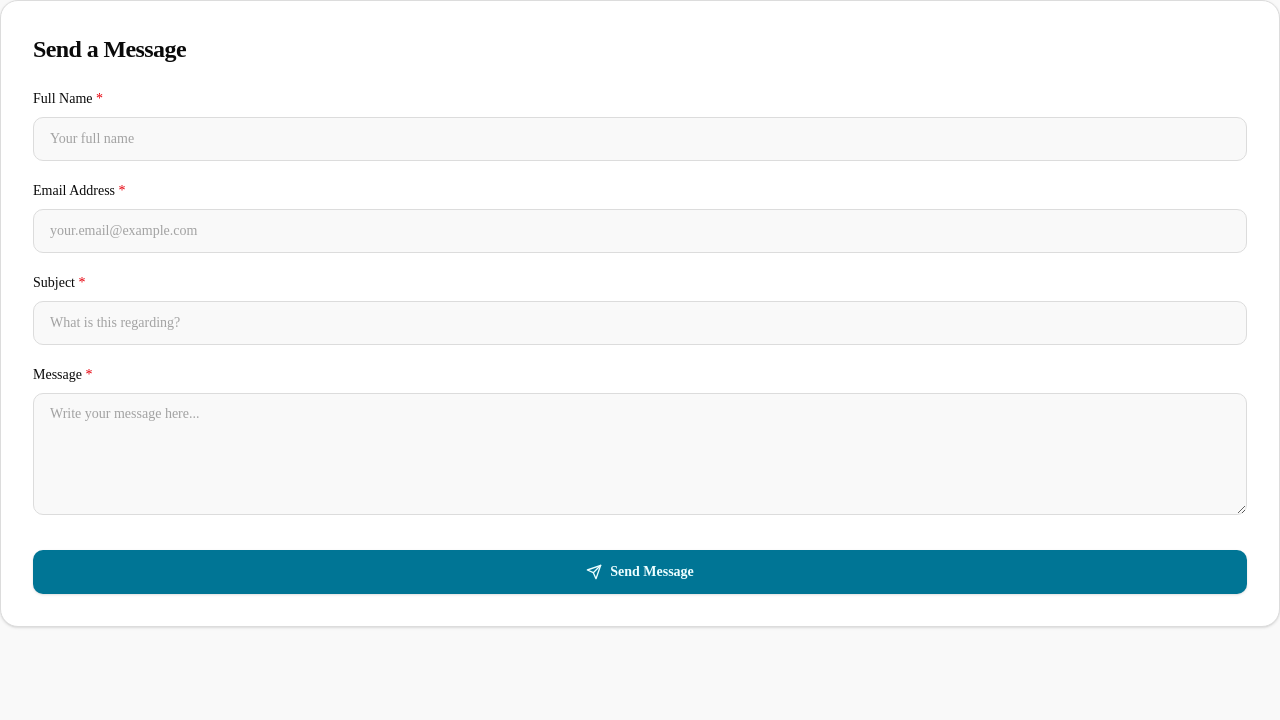
ContactForm Component › handles server error properly
This screenshot has width=1280, height=720.
Type "Bob Smith" into the field labelled "Full Name *" at (640, 139), box [33,117,1247,161]
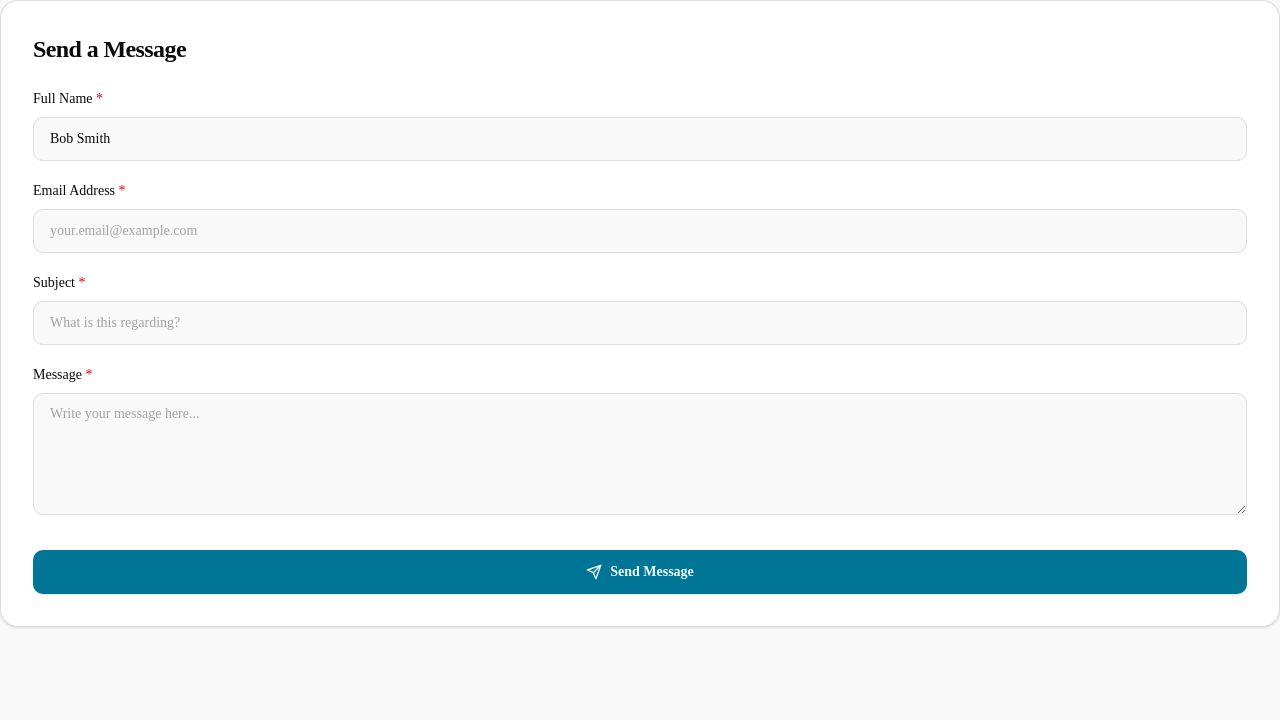
Type "bob@example.com" into the field labelled "Email Address *" at (640, 231), box [33,209,1247,253]
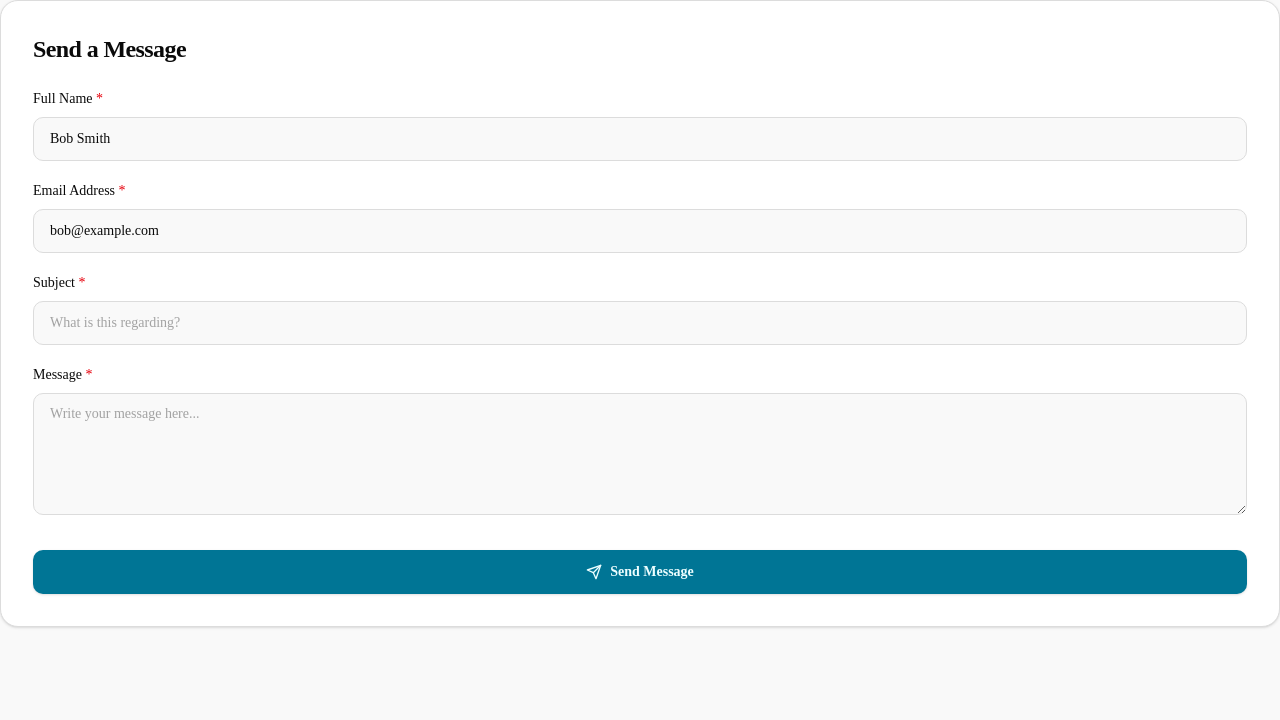
Type "Systems Query" into the field labelled "Subject *" at (640, 323), box [33,301,1247,345]
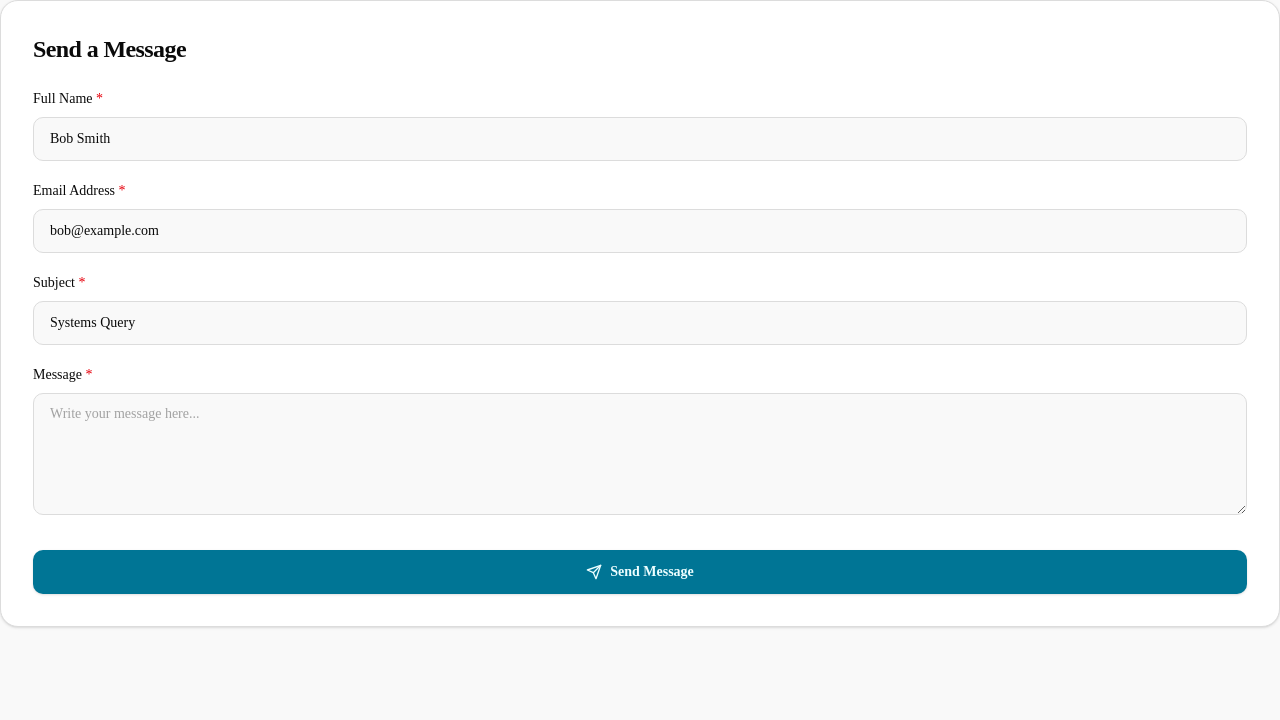
Type "Inquiring about distributed backend services and caching layers." into the text box labelled "Message *" at (640, 454), box [33,393,1247,515]
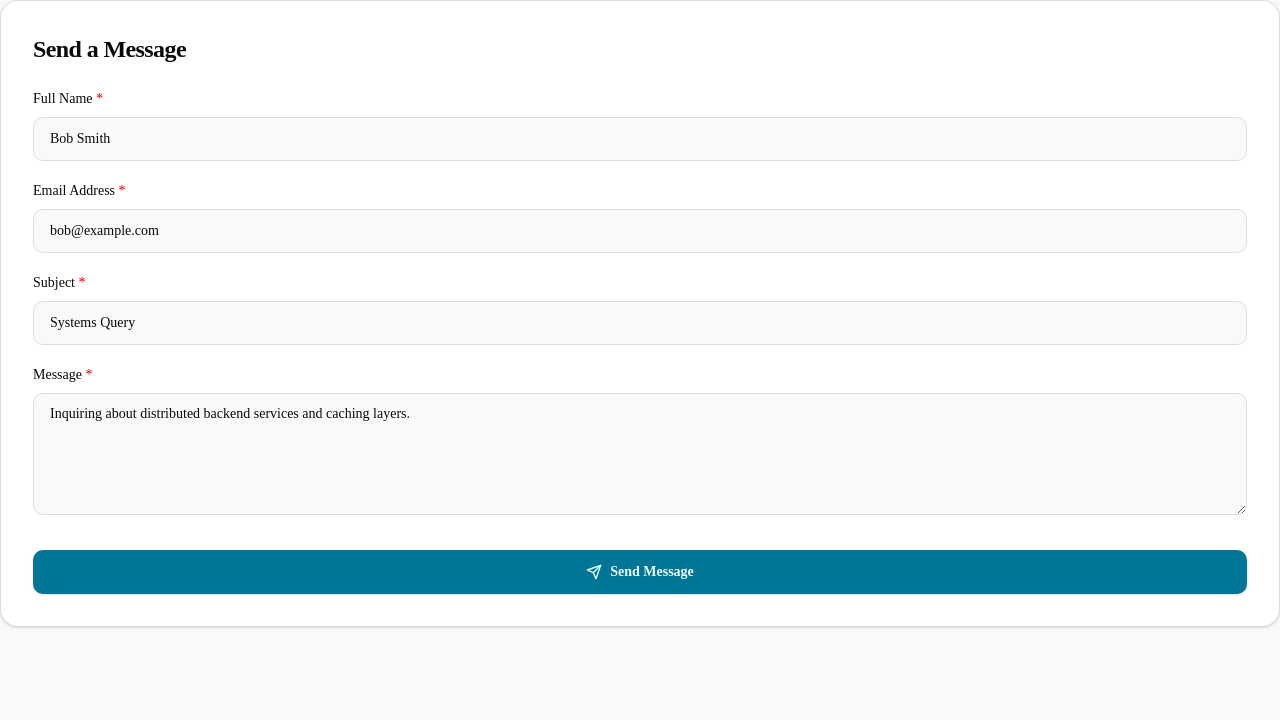
Click the button "Send Message" at (640, 572), box [33,550,1247,594]
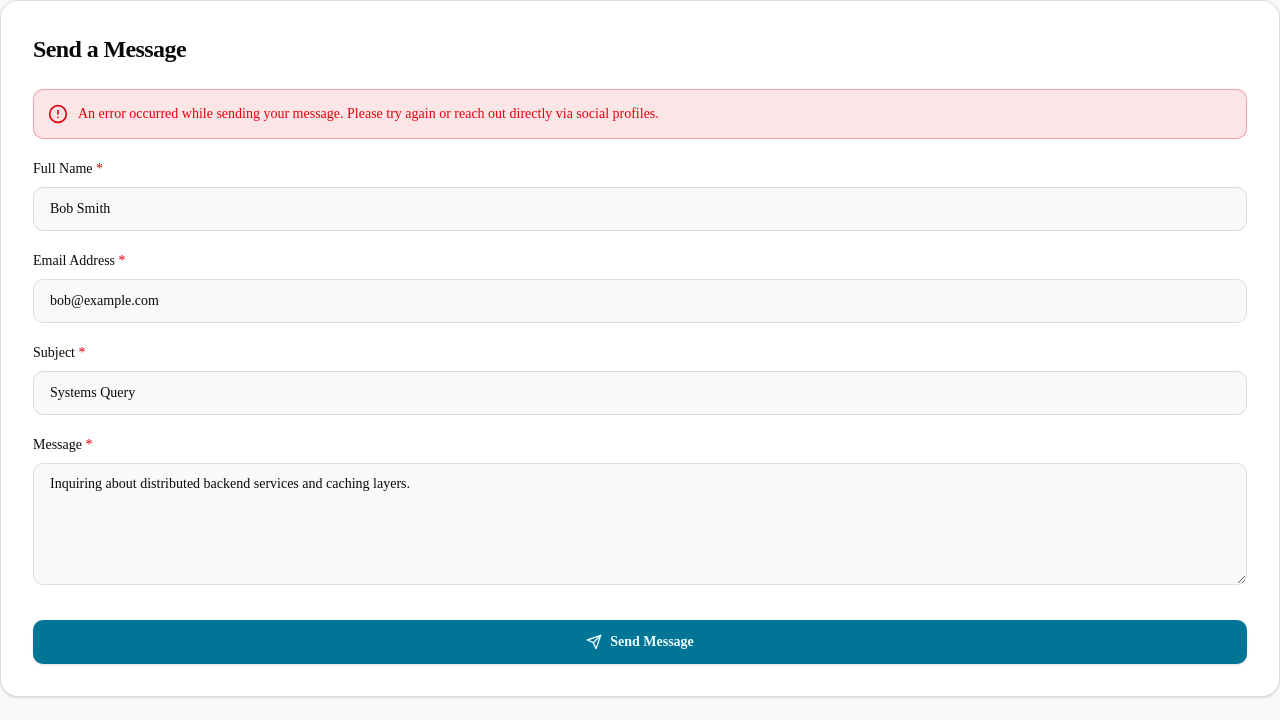
Result: the message is shown at [33,89,1247,139]
Result: the text "An error occurred while sending your message. Please try again or reach out directly via social profiles." is shown at [78,106,659,121]
